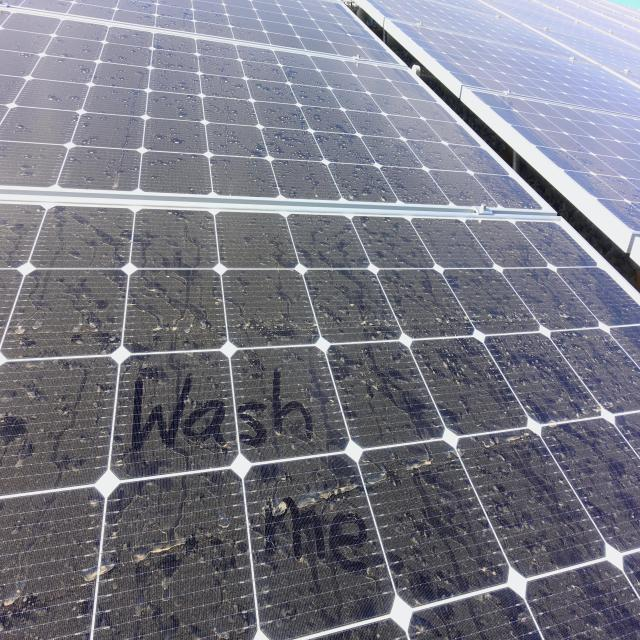soiled: (6, 198, 640, 640), (2, 8, 552, 224)
